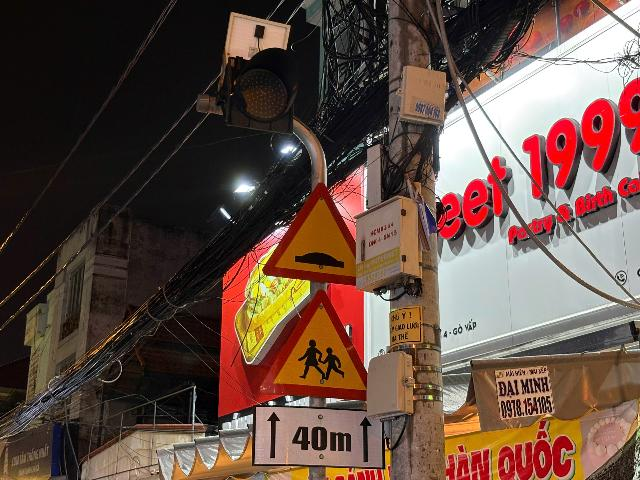duong-co-go-giam-toc: (262, 181, 356, 286)
tre-em-qua-duong: (259, 289, 367, 401)
